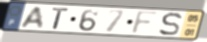6: (78, 8, 100, 32)
7: (104, 9, 125, 34)
A: (19, 5, 45, 29)
F: (129, 10, 162, 35)
S: (157, 11, 184, 37)
T: (51, 7, 71, 30)
